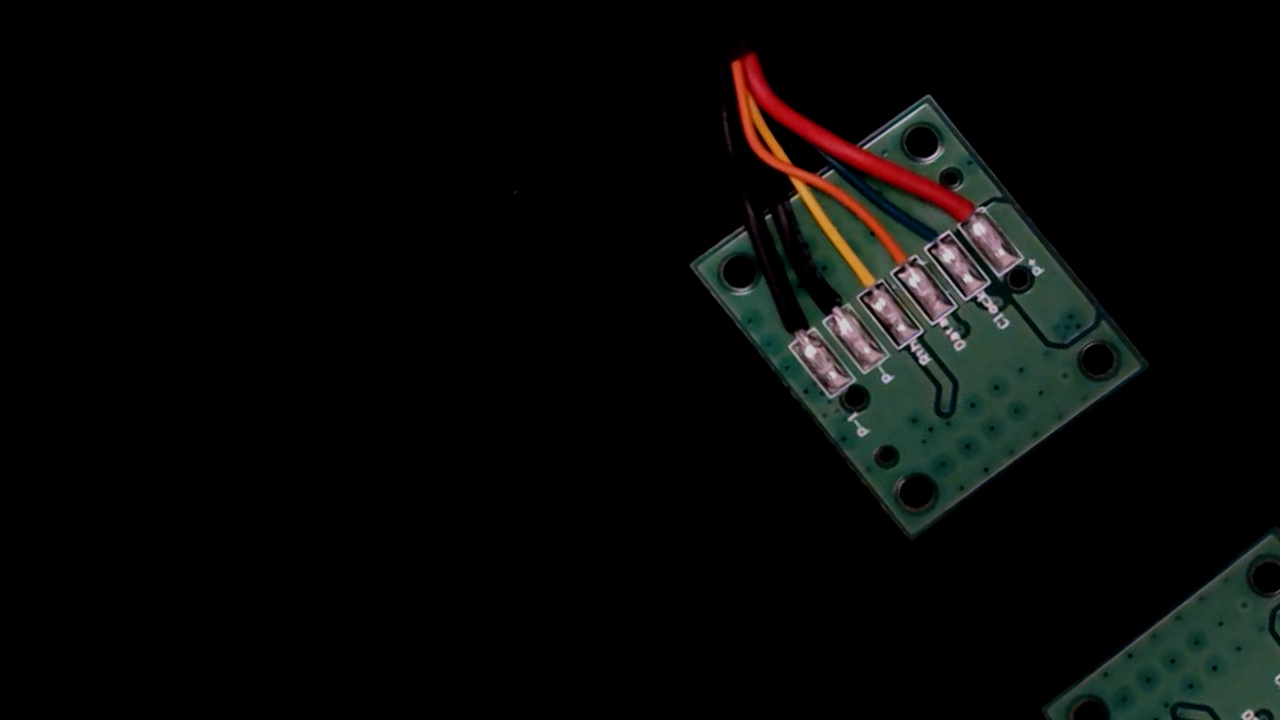Black: (793, 265, 862, 336)
Black1: (757, 288, 827, 361)
Green: (901, 202, 963, 263)
Orange: (868, 223, 930, 286)
Red: (937, 180, 997, 240)
Yellow: (828, 244, 898, 313)
